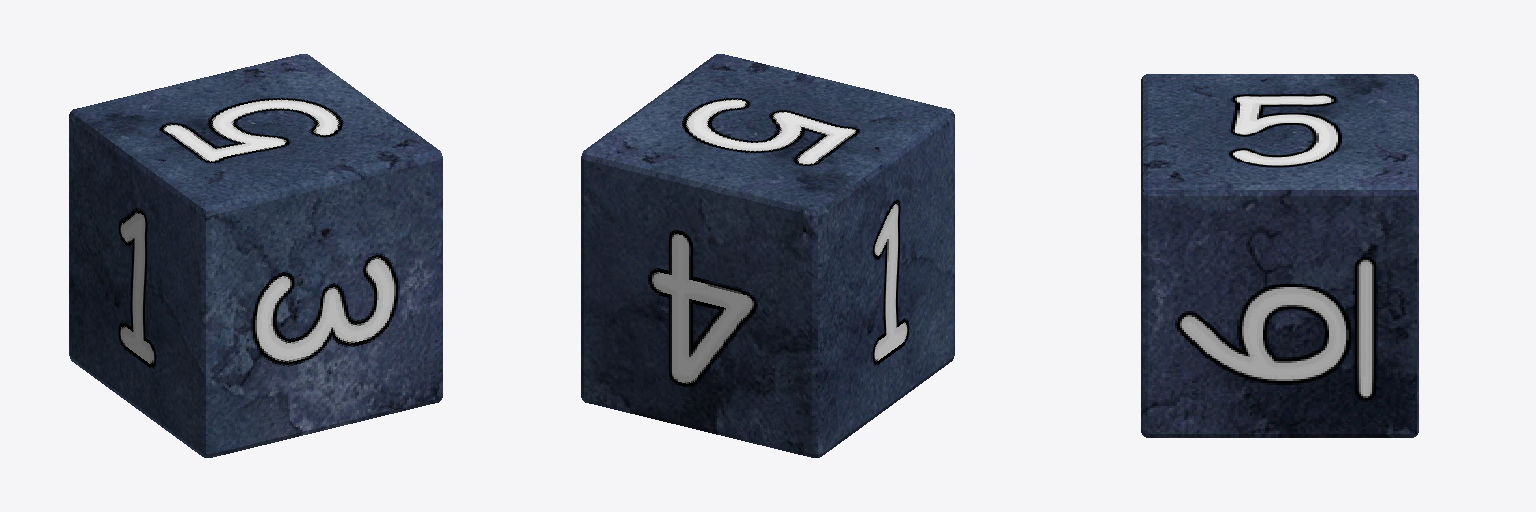
3 views of the same model, side by side, from view 1: azimuth 30°, elevation 25°; view 2: azimuth 150°, elevation 25°; view 3: azimuth 270°, elevation 25° (orthographic).
Visible parts, largest first — view 1: d6_smooth; view 2: d6_smooth; view 3: d6_smooth.
Part boxes in pixels (x1,y1,x2,y2): d6_smooth: (69, 54, 442, 457); d6_smooth: (581, 54, 954, 457); d6_smooth: (1141, 74, 1418, 437).
Size of the model in its own units: 4.67 by 4.67 by 4.67.
1 materials, 1 textured.